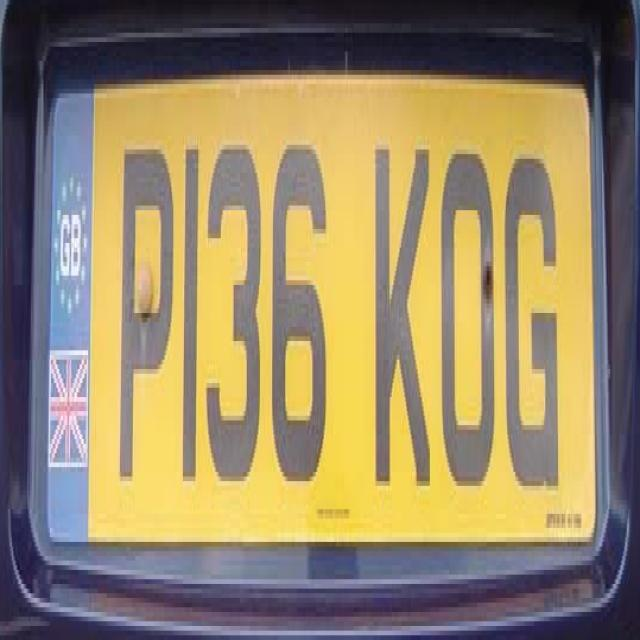Autre: (47, 78, 598, 539)
